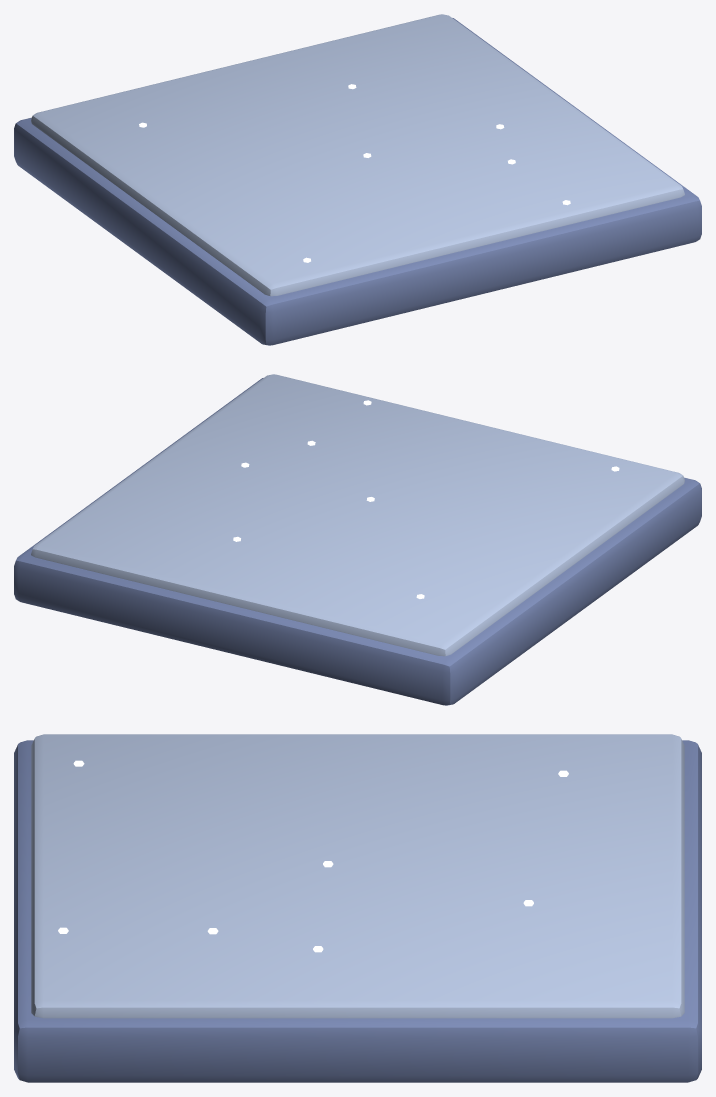
The model's file is floor_tile_a.glb.
3 renders of one model, top to bottom at view 1: azimuth 30°, elevation 25°; view 2: azimuth 150°, elevation 25°; view 3: azimuth 270°, elevation 25°, orthographic. The views are drawn at different scales.
Parts seen in each view (by area): view 1: floor_tile_a; view 2: floor_tile_a; view 3: floor_tile_a.
Boxes of the visible parts, x1,y1,x2,y2 form: floor_tile_a: (14, 14, 701, 345); floor_tile_a: (14, 374, 701, 705); floor_tile_a: (14, 734, 701, 1082).
Size of the model in its own units: 1 by 0.1285 by 1.
